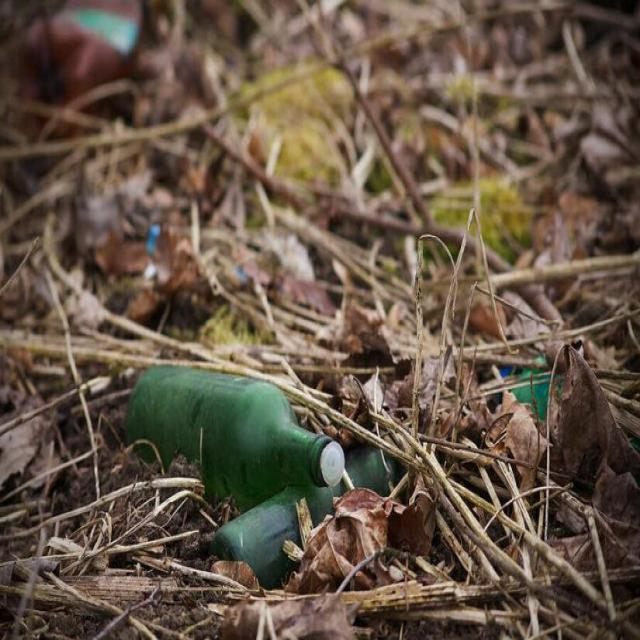non-organic waste: (125, 361, 346, 497)
